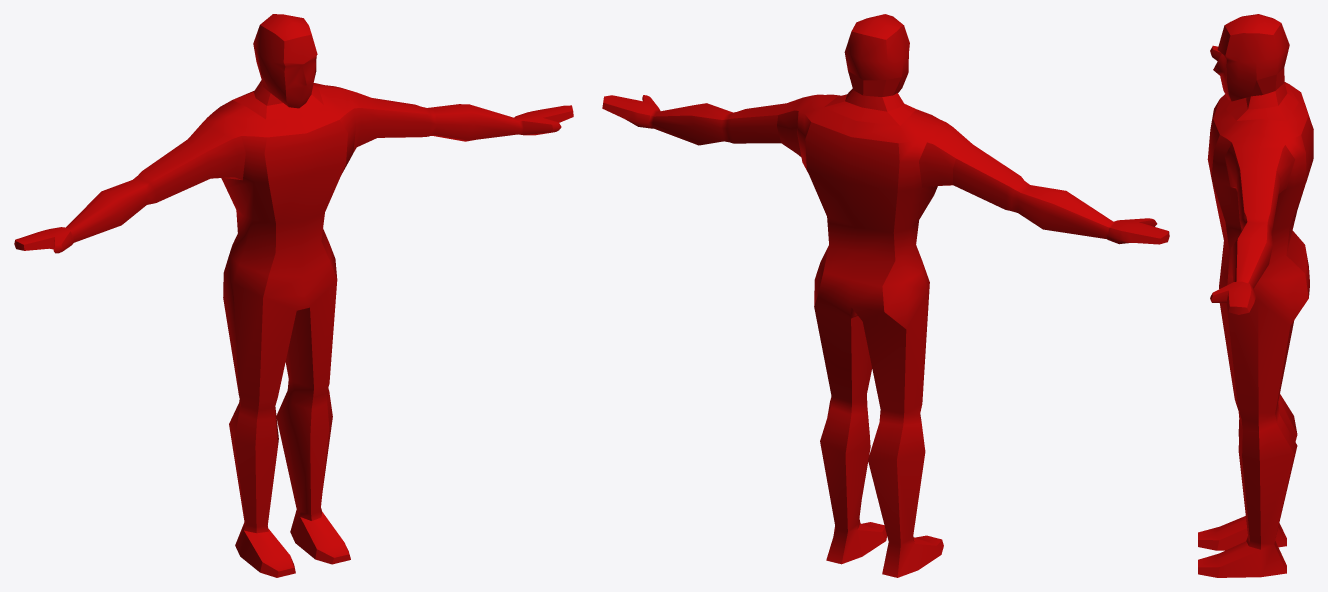
File: HM_Guard.fbx
3 views of the same model, side by side, from view 1: azimuth 30°, elevation 25°; view 2: azimuth 150°, elevation 25°; view 3: azimuth 270°, elevation 25° (orthographic).
Parts seen in each view (by area): view 1: HM_Guard; view 2: HM_Guard; view 3: HM_Guard.
Boxes of the visible parts, x1,y1,x2,y2 form: HM_Guard: [14, 14, 573, 577]; HM_Guard: [602, 14, 1169, 577]; HM_Guard: [1198, 14, 1313, 577].
Size of the model in its own units: 244 by 223 by 43.3.
